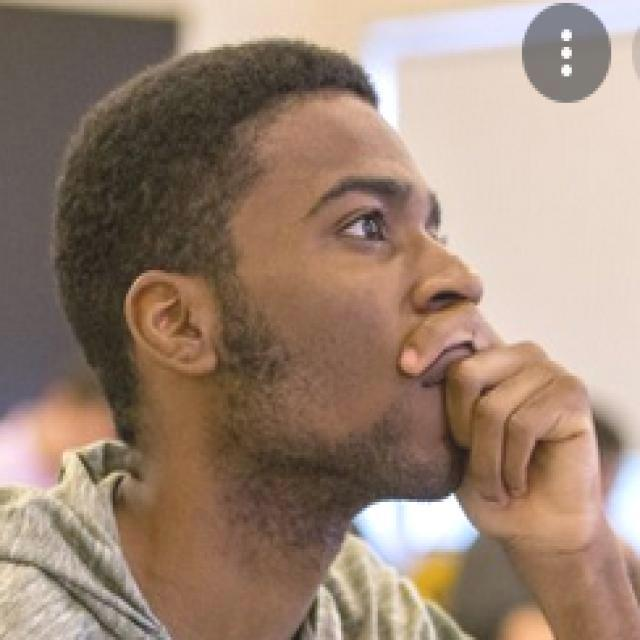Looking forward: (188, 84, 487, 506)
